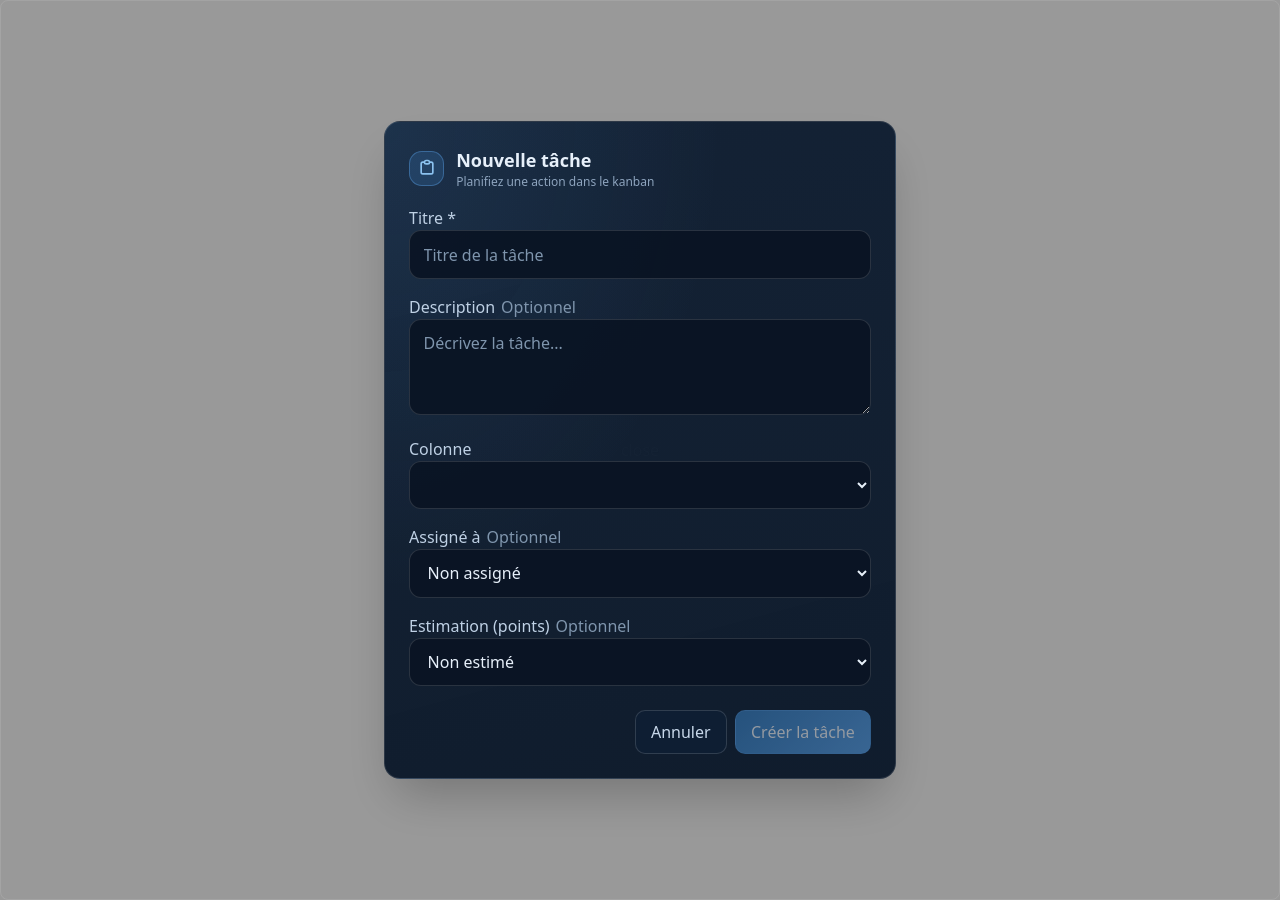
CreateTaskModal — submit button › enables submit button when title is filled
Type "My new task" into the field with placeholder "Titre de la tâche" at x=640, y=255, box [409,230,871,279]
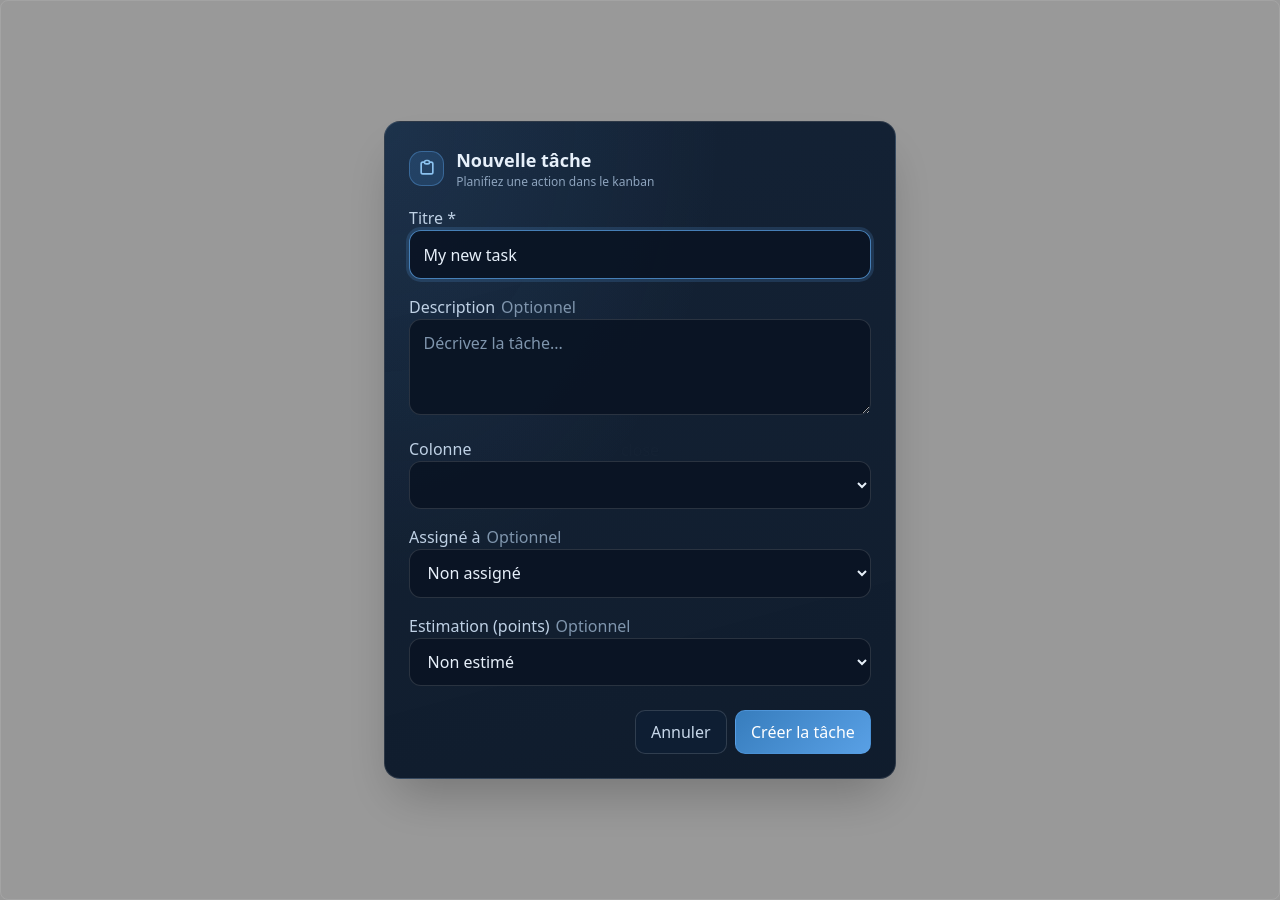
Now the submit button is enabled, box [735,710,871,754]
